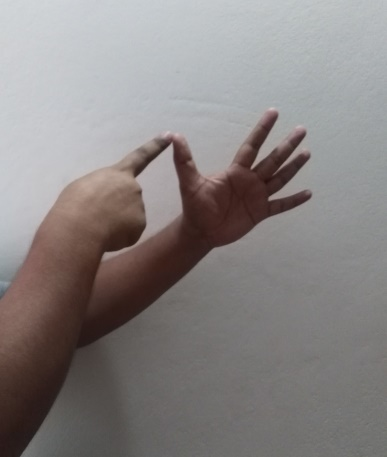a: (60, 108, 316, 297)
